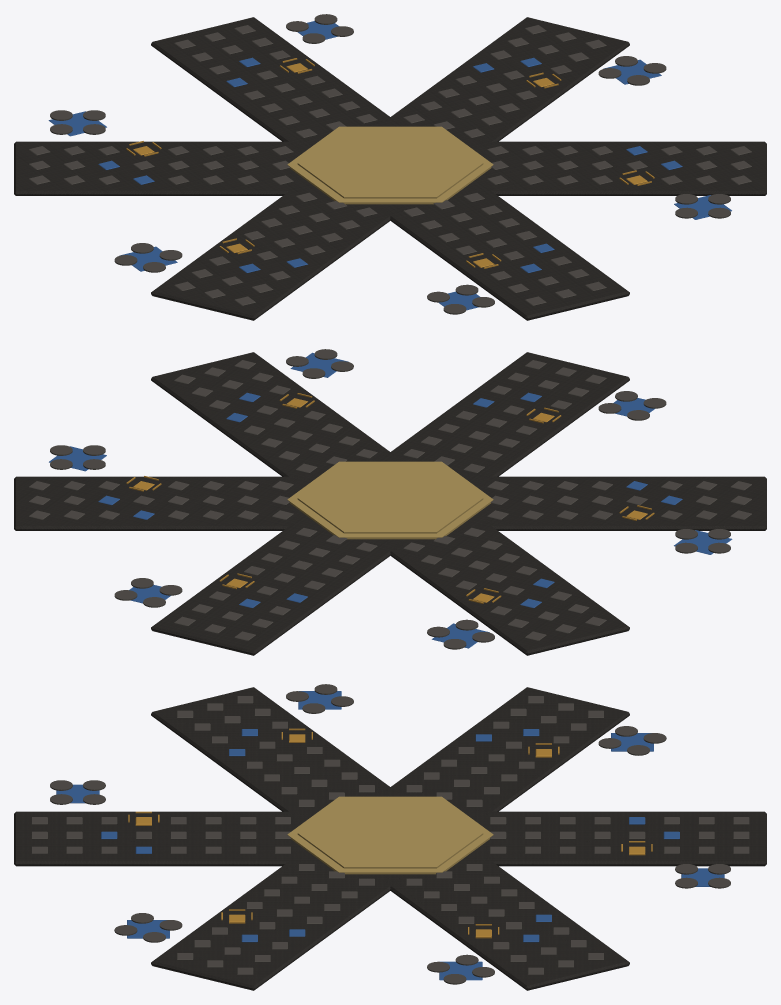
File: board_6p.glb
3 renders of one model, top to bottom at view 1: azimuth 30°, elevation 25°; view 2: azimuth 150°, elevation 25°; view 3: azimuth 270°, elevation 25°, orthographic.
Visible parts, largest first — view 1: board_slab, board_tiles; view 2: board_slab, board_tiles; view 3: board_slab, board_tiles.
Boxes of the visible parts, x1,y1,x2,y2 form: board_slab: (14, 17, 766, 320); board_tiles: (29, 14, 751, 314); board_slab: (14, 352, 766, 655); board_tiles: (29, 349, 751, 649); board_slab: (14, 687, 766, 990); board_tiles: (31, 684, 749, 984).
Bounding box in the file's own units: 1.02 × 0.0136 × 1.08.
Materials: 5 (1 with a texture image).
